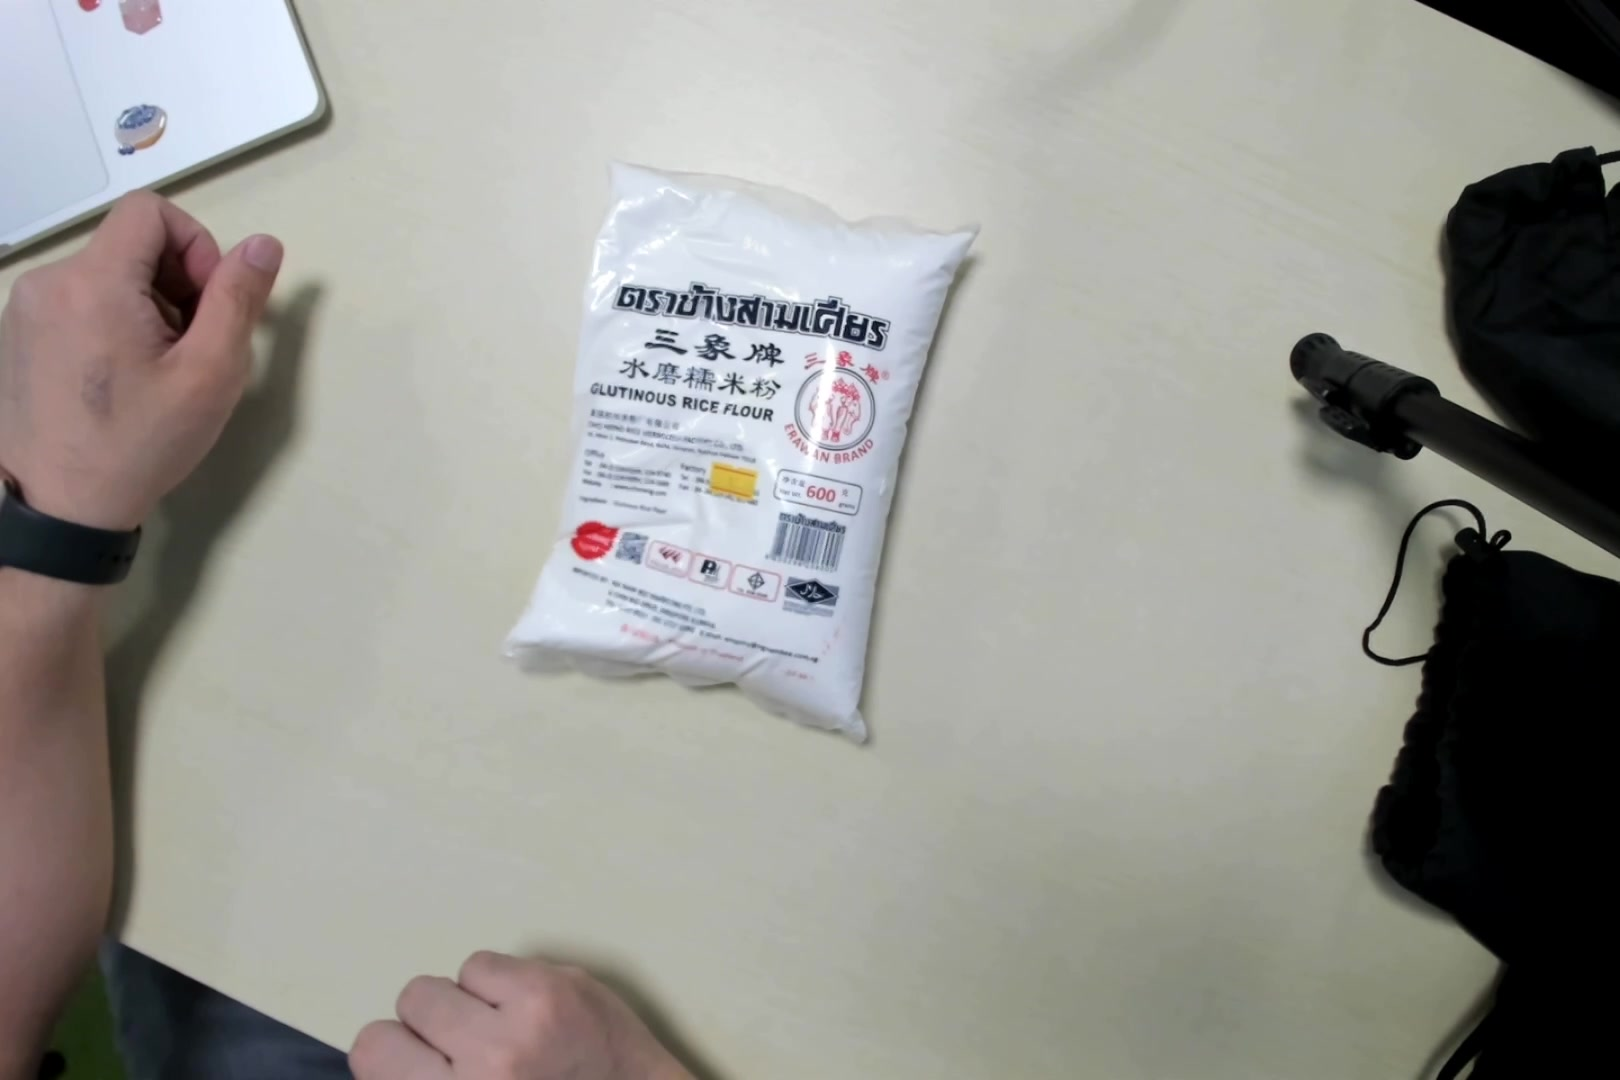OtherBakingNeeds_600-699g_Halal_NonHealthy: (506, 166, 985, 749)
